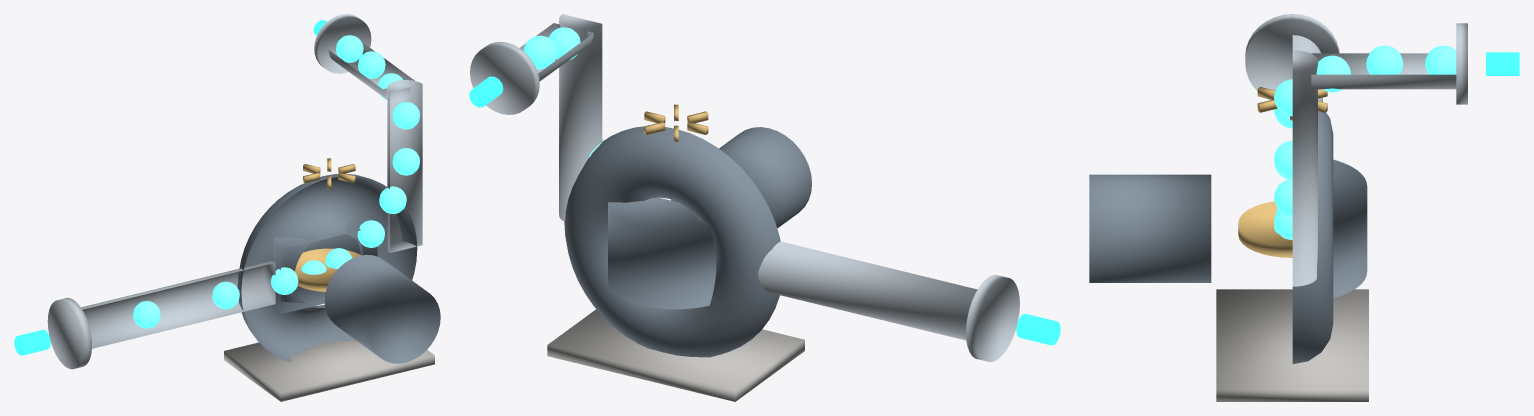
File: pump-flow.glb
The picture shows the model from 3 angles, left to right: view 1: azimuth 30°, elevation 25°; view 2: azimuth 150°, elevation 25°; view 3: azimuth 270°, elevation 25°; orthographic projection. The views are drawn at different scales.
Visible parts, largest first — view 1: OBJ_Pump_Casing, OBJ_Pump_Motor, OBJ_Pipe_Suction, OBJ_Pump_Base, OBJ_Pipe_Discharge, OBJ_Pipe_Suction_Flange, OBJ_Pump_Body, OBJ_Impeller, OBJ_Pipe_Discharge_Flange, OBJ_Pipe_Discharge_Outlet, OBJ_Arrow_Suction, OBJ_Flow_Bead_03 (+9 smaller); view 2: OBJ_Pump_Casing, OBJ_Pipe_Suction, OBJ_Pump_Body, OBJ_Pump_Base, OBJ_Pipe_Discharge, OBJ_Pump_Motor, OBJ_Pipe_Suction_Flange, OBJ_Pipe_Discharge_Flange, OBJ_Arrow_Suction, OBJ_Impeller, OBJ_Flow_Bead_12, OBJ_Pipe_Discharge_Outlet (+2 smaller); view 3: OBJ_Pump_Base, OBJ_Pump_Motor, OBJ_Pipe_Discharge, OBJ_Pump_Casing, OBJ_Pump_Body, OBJ_Pipe_Suction_Flange, OBJ_Pipe_Discharge_Outlet, OBJ_Impeller, OBJ_Pipe_Discharge_Flange, OBJ_Flow_Bead_12, OBJ_Flow_Bead_01, OBJ_Arrow_Discharge (+6 smaller).
Part boxes in pixels (box(x1,y1,x2,y2)): OBJ_Pump_Casing: box(237, 173, 417, 361); OBJ_Pump_Motor: box(324, 254, 440, 363); OBJ_Pipe_Suction: box(81, 261, 275, 348); OBJ_Pump_Base: box(224, 340, 434, 401); OBJ_Pipe_Discharge: box(387, 80, 422, 252); OBJ_Pipe_Suction_Flange: box(47, 297, 91, 369); OBJ_Pump_Body: box(273, 217, 377, 314); OBJ_Impeller: box(295, 158, 361, 291); OBJ_Pipe_Discharge_Flange: box(314, 14, 371, 73); OBJ_Pipe_Discharge_Outlet: box(328, 42, 414, 102); OBJ_Arrow_Suction: box(14, 329, 50, 355); OBJ_Flow_Bead_03: box(212, 281, 239, 309); OBJ_Pump_Casing: box(564, 126, 780, 357); OBJ_Pipe_Suction: box(758, 241, 977, 340); OBJ_Pump_Body: box(608, 197, 716, 309); OBJ_Pump_Base: box(547, 309, 804, 401); OBJ_Pipe_Discharge: box(559, 14, 602, 221); OBJ_Pump_Motor: box(671, 127, 811, 228); OBJ_Pipe_Suction_Flange: box(966, 275, 1019, 361); OBJ_Pipe_Discharge_Flange: box(470, 42, 539, 114); OBJ_Arrow_Suction: box(1016, 313, 1060, 345); OBJ_Impeller: box(644, 104, 708, 141); OBJ_Flow_Bead_12: box(523, 35, 556, 69); OBJ_Pipe_Discharge_Outlet: box(520, 23, 593, 81); OBJ_Pump_Base: box(1216, 289, 1368, 401); OBJ_Pump_Motor: box(1089, 174, 1211, 282); OBJ_Pipe_Discharge: box(1292, 50, 1317, 286); OBJ_Pump_Casing: box(1292, 111, 1333, 363); OBJ_Pump_Body: box(1333, 159, 1367, 297); OBJ_Pipe_Suction_Flange: box(1245, 14, 1339, 100); OBJ_Pipe_Discharge_Outlet: box(1311, 53, 1456, 89); OBJ_Impeller: box(1238, 87, 1327, 257); OBJ_Pipe_Discharge_Flange: box(1456, 23, 1467, 104); OBJ_Flow_Bead_12: box(1366, 45, 1403, 74); OBJ_Flow_Bead_01: box(1425, 45, 1456, 74); OBJ_Arrow_Discharge: box(1486, 52, 1519, 75).
Bounding box in the file's own units: 1.88 × 1.22 × 1.27.
